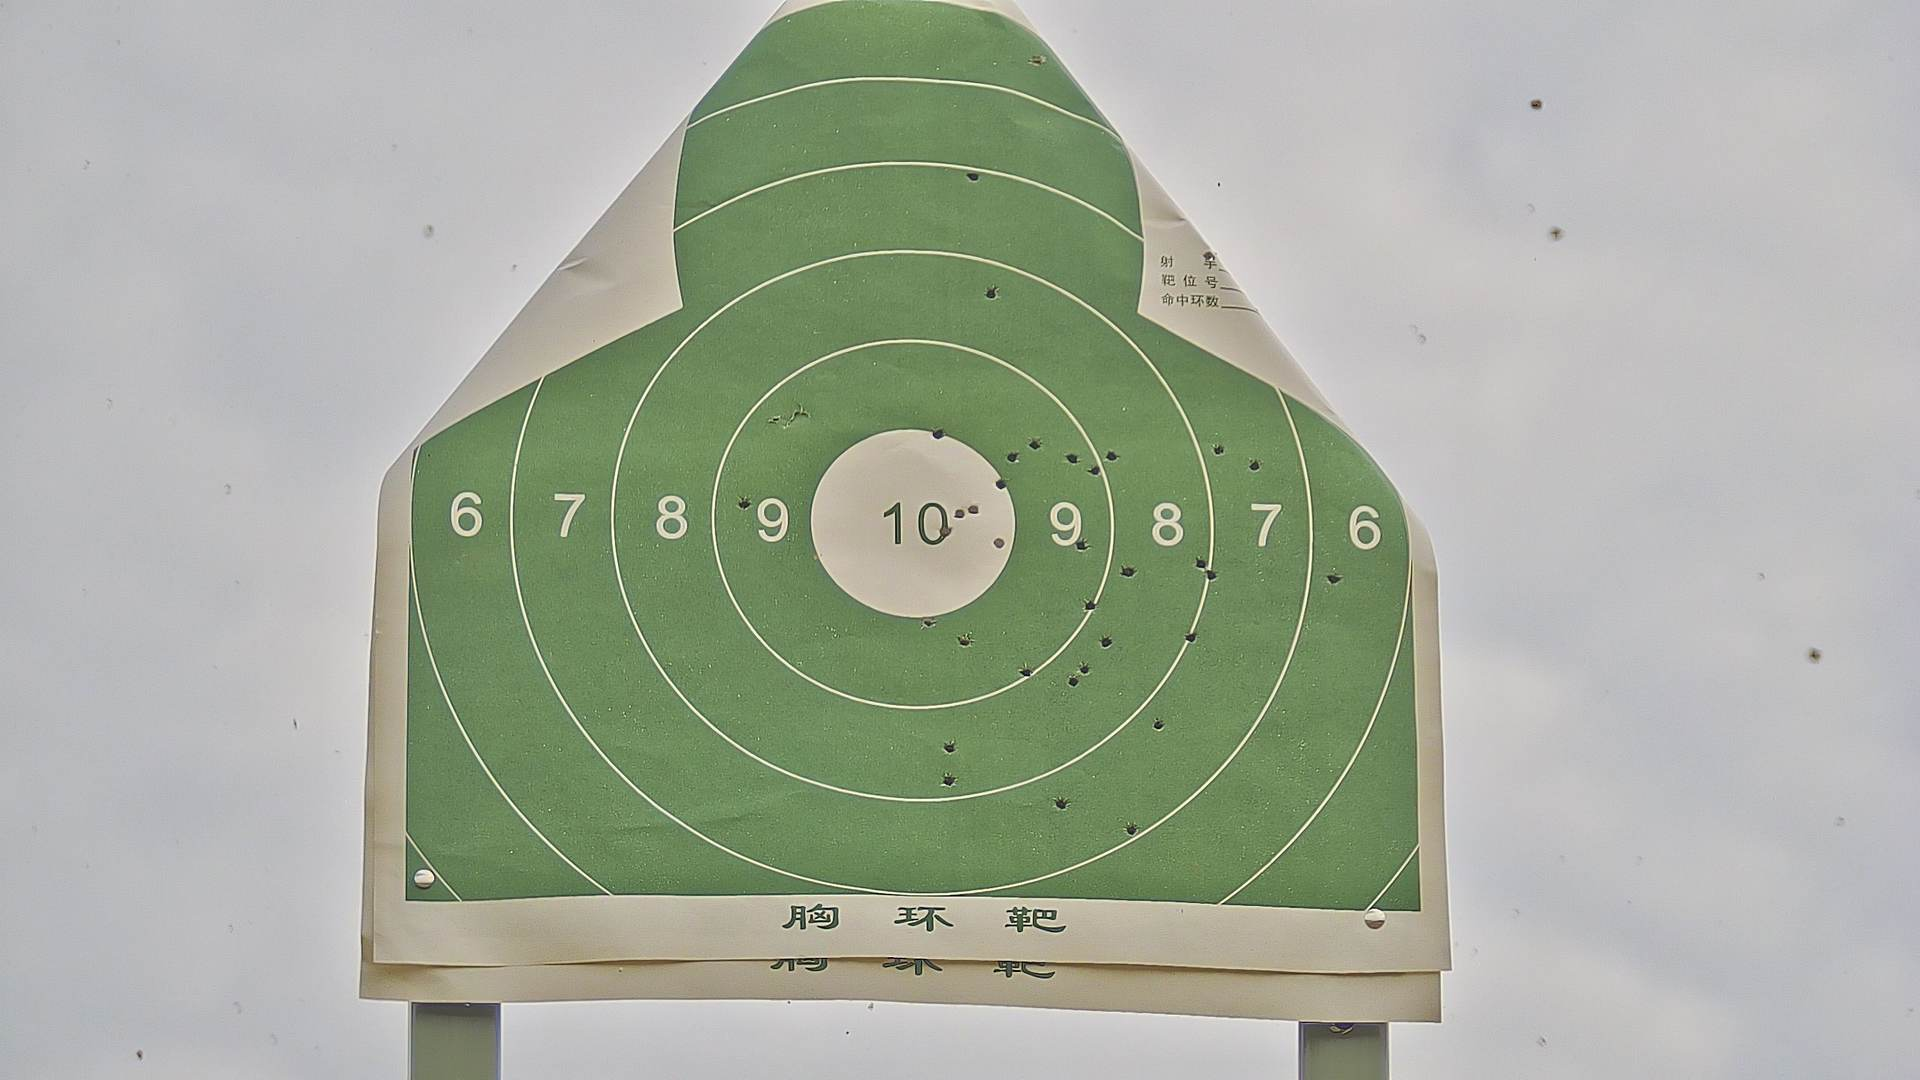hole: (961, 166, 985, 189), (1116, 560, 1141, 582), (1076, 655, 1098, 678), (1050, 794, 1073, 815), (953, 629, 975, 651), (1149, 711, 1170, 733), (938, 770, 963, 789), (989, 533, 1010, 553), (1095, 628, 1116, 647), (982, 277, 1000, 301), (964, 498, 982, 520), (1079, 592, 1095, 616), (733, 492, 752, 512), (920, 612, 938, 633), (1325, 567, 1342, 588), (1026, 435, 1044, 454), (1064, 448, 1083, 467), (1065, 671, 1084, 690), (1004, 446, 1021, 465), (1029, 51, 1050, 67), (1192, 553, 1208, 574), (930, 425, 949, 440), (1015, 658, 1029, 682), (1184, 626, 1200, 646), (1245, 456, 1262, 473), (942, 738, 957, 757), (1122, 820, 1138, 837), (1211, 439, 1225, 458), (951, 506, 967, 522), (1203, 570, 1217, 587), (936, 524, 952, 538), (992, 473, 1007, 488), (1102, 447, 1118, 462), (1089, 462, 1102, 477), (1073, 534, 1087, 550)
kernel: (903, 520, 916, 527)
target: (409, 3, 1419, 909)
ten: (808, 418, 1017, 618)
